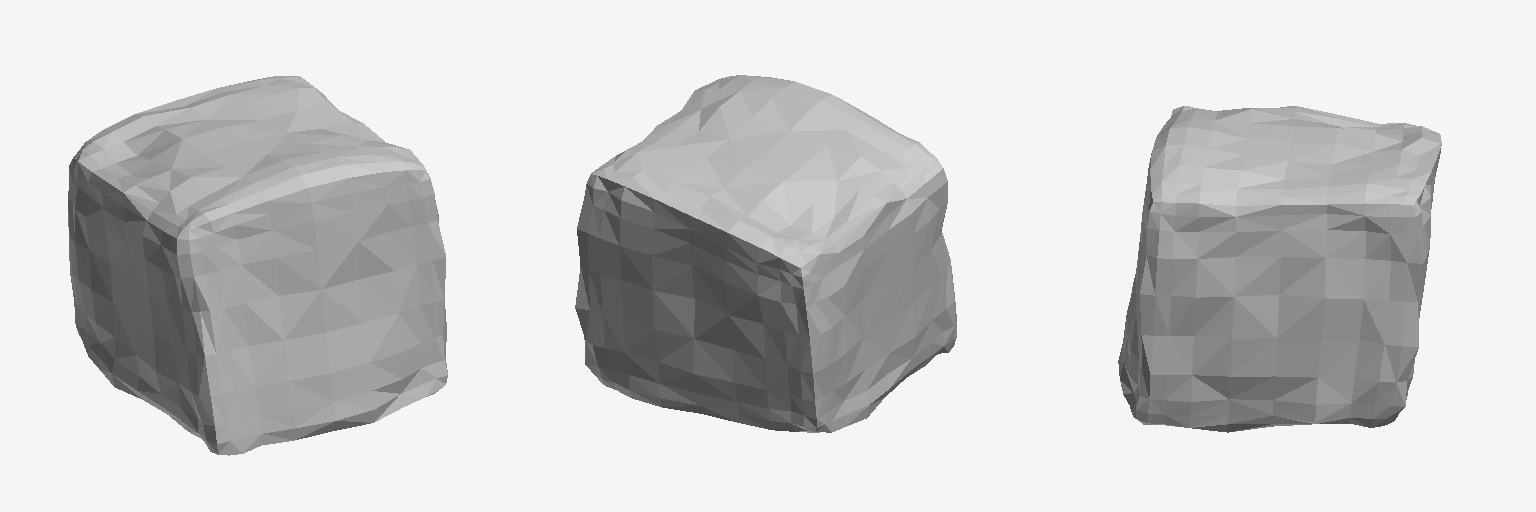
File: stone.obj
The picture shows the model from 3 angles: view 1: azimuth 30°, elevation 25°; view 2: azimuth 150°, elevation 25°; view 3: azimuth 270°, elevation 25°; orthographic projection.
Parts seen in each view (by area): view 1: Paving_Stone_1_LOW_UV_; view 2: Paving_Stone_1_LOW_UV_; view 3: Paving_Stone_1_LOW_UV_.
Boxes of the visible parts, x1,y1,x2,y2 form: Paving_Stone_1_LOW_UV_: [68, 76, 447, 455]; Paving_Stone_1_LOW_UV_: [575, 75, 956, 432]; Paving_Stone_1_LOW_UV_: [1118, 106, 1441, 432].
Bounding box in the file's own units: 8.85 × 8.23 × 9.57.